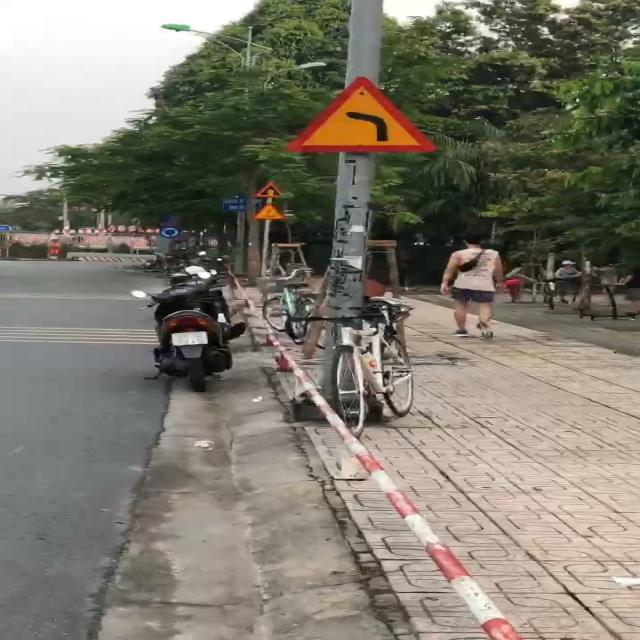Bien bao cho ngoat nguy hiem: (282, 73, 444, 157)
